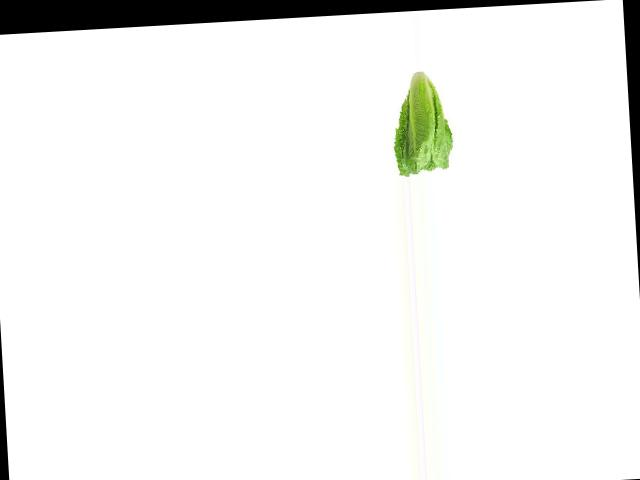lettuce: (387, 70, 462, 177)
